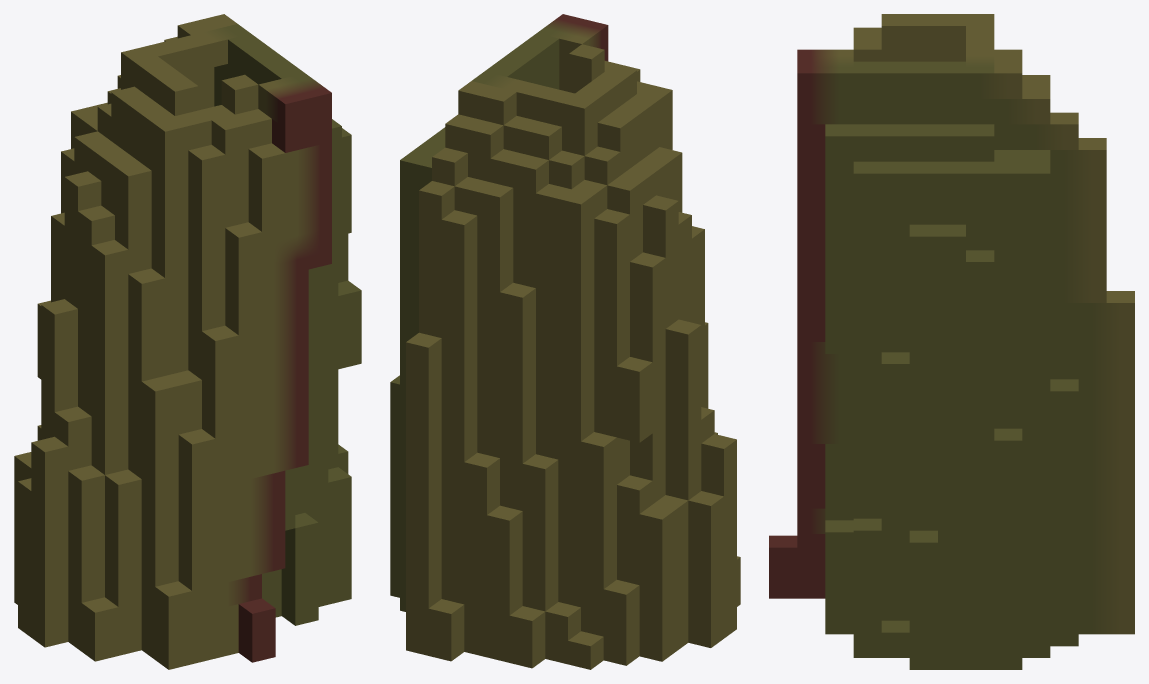
The model's file is NB_TR_F_Skirt_thigh_r.fbx.
The picture shows the model from 3 angles, left to right: view 1: azimuth 30°, elevation 25°; view 2: azimuth 150°, elevation 25°; view 3: azimuth 270°, elevation 25°; orthographic projection. The views are drawn at different scales.
Visible parts, largest first — view 1: Skirt_thigh_r; view 2: Skirt_thigh_r; view 3: Skirt_thigh_r.
Part boxes in pixels (x1,y1,x2,y2): Skirt_thigh_r: (14,14,361,669); Skirt_thigh_r: (390,14,740,669); Skirt_thigh_r: (769,14,1134,669).
Size of the model in its own units: 13 by 22 by 13.
1 material, 1 textured.
